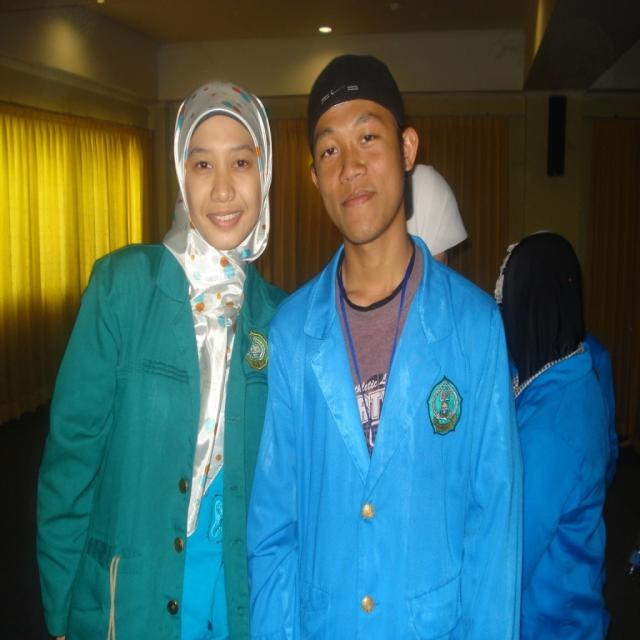no_helmet: (489, 242, 594, 292), (305, 116, 410, 166), (168, 138, 273, 188)
